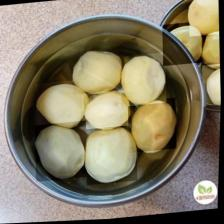Potato: (34, 121, 90, 182), (85, 127, 140, 186), (127, 99, 179, 155), (36, 80, 88, 132), (72, 48, 127, 96), (120, 54, 168, 108), (81, 89, 133, 136), (161, 23, 203, 68), (187, 0, 220, 38), (200, 29, 222, 71), (202, 66, 222, 108)
